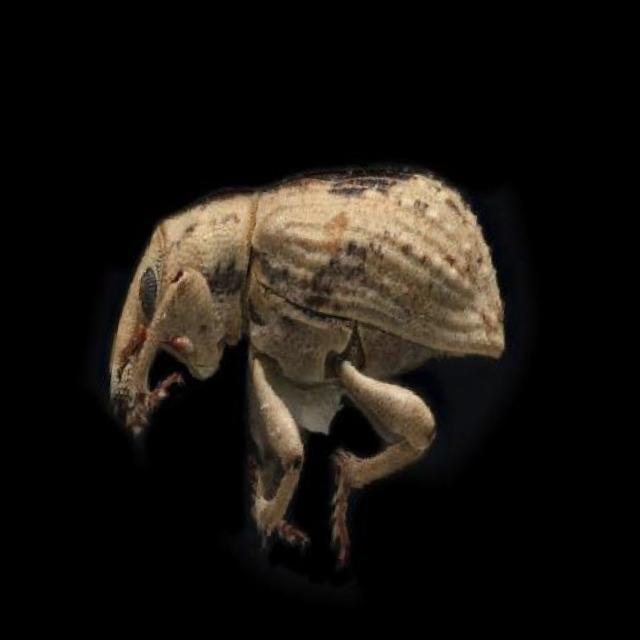rice-bug: (86, 128, 532, 577)
